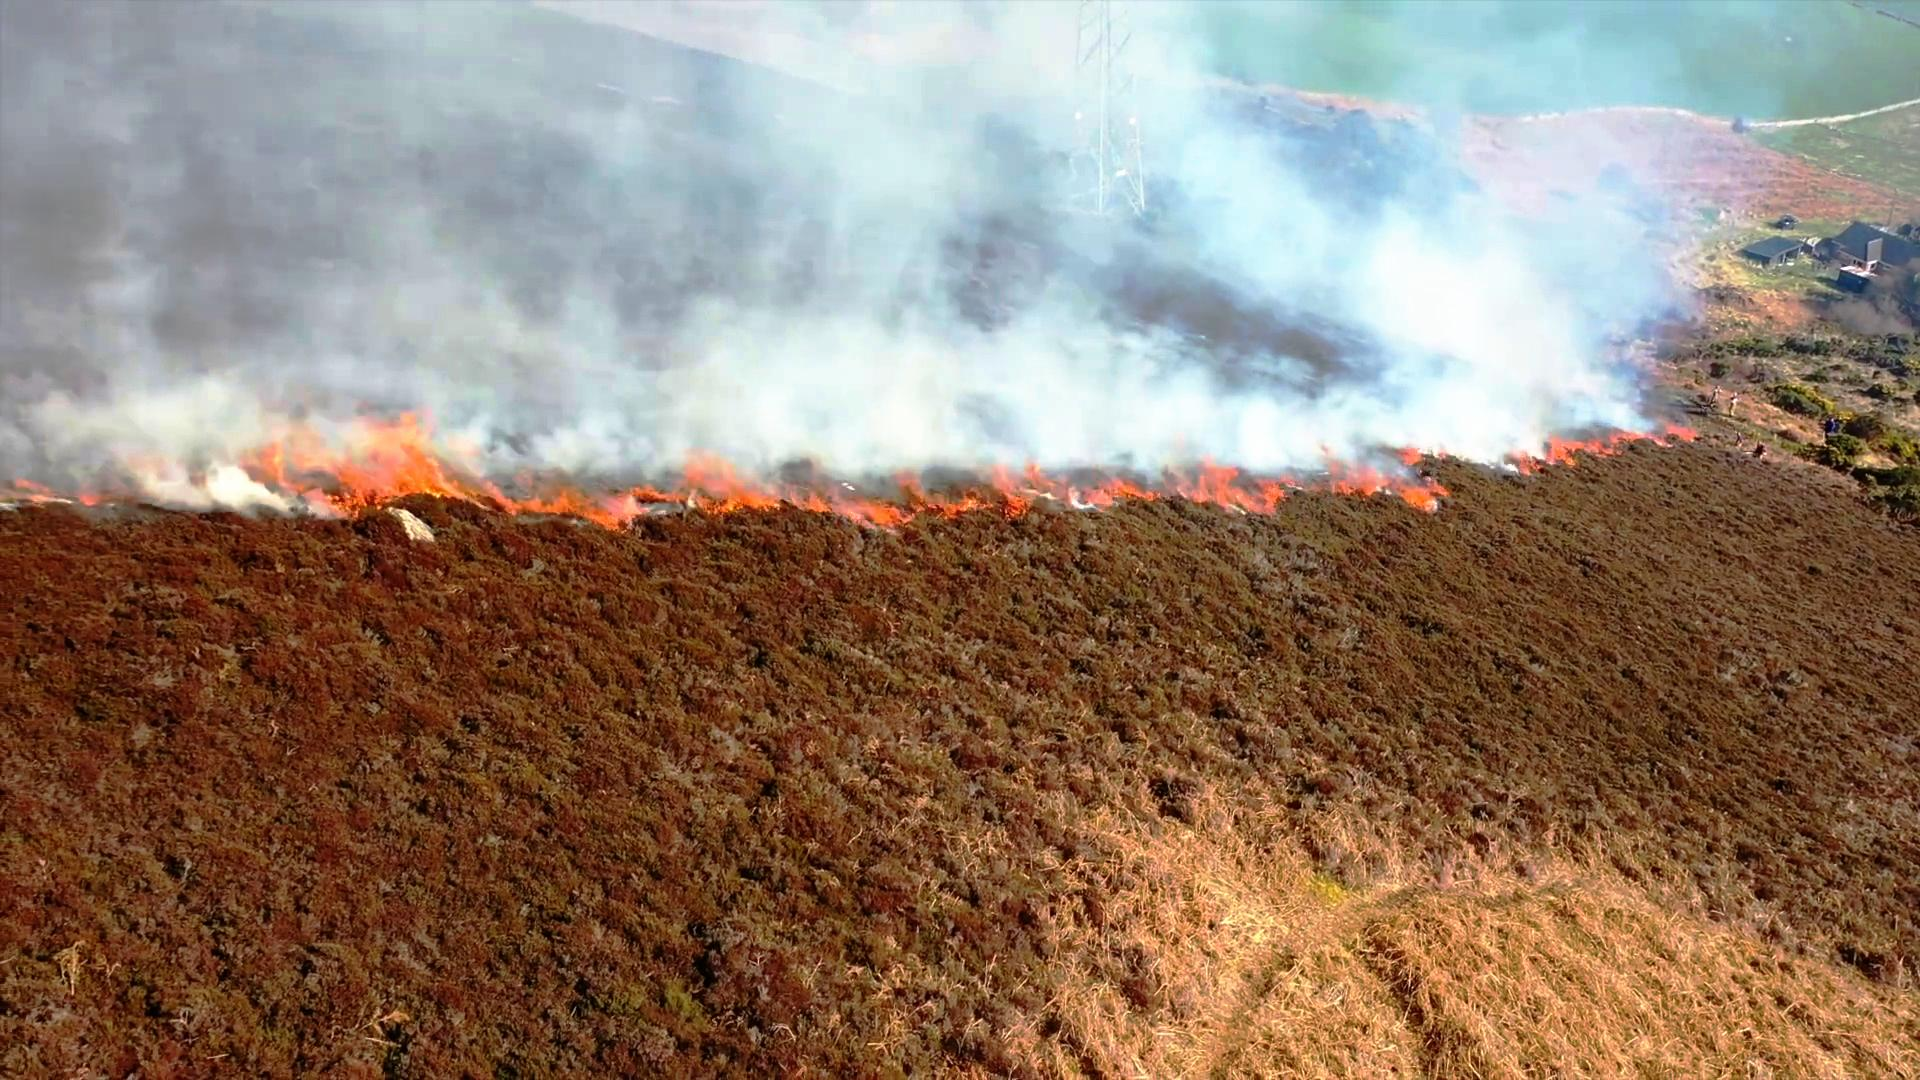fire: (270, 423, 480, 531), (662, 454, 889, 537), (1195, 444, 1403, 525), (898, 447, 1068, 525), (479, 479, 649, 538)
smoke: (3, 1, 1725, 438)
